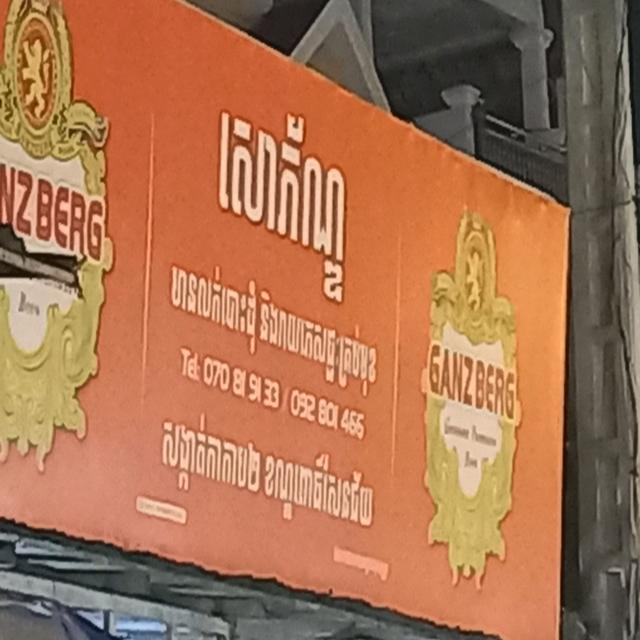1: (160, 244, 386, 407), (157, 394, 400, 541)
372: (200, 346, 367, 448)
Yolov11kh: (198, 54, 372, 305)
